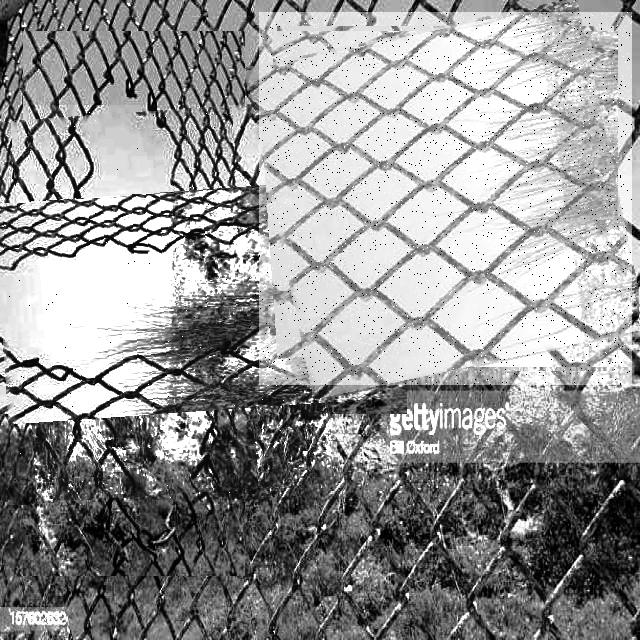anomaly-fence: (0, 105, 332, 500)
fences: (259, 12, 632, 385)
